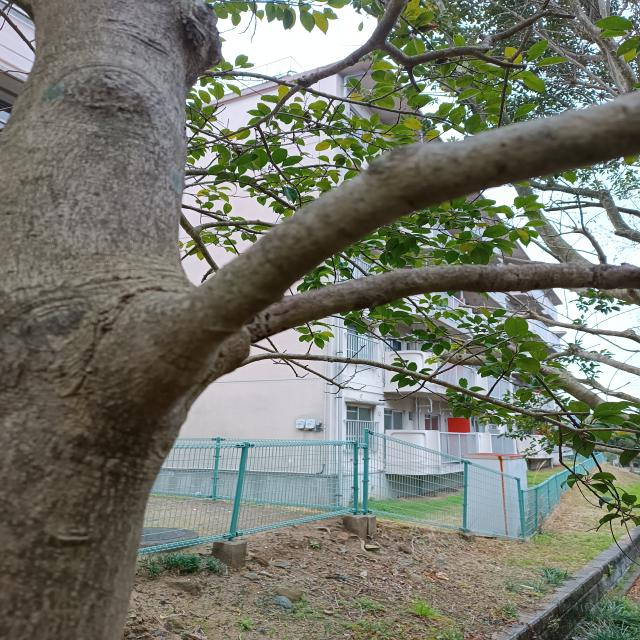Branch: (208, 91, 638, 322)
Twig: (242, 352, 640, 443), (250, 262, 639, 337), (217, 0, 408, 140), (379, 10, 578, 68), (474, 53, 527, 69), (406, 67, 422, 93)
